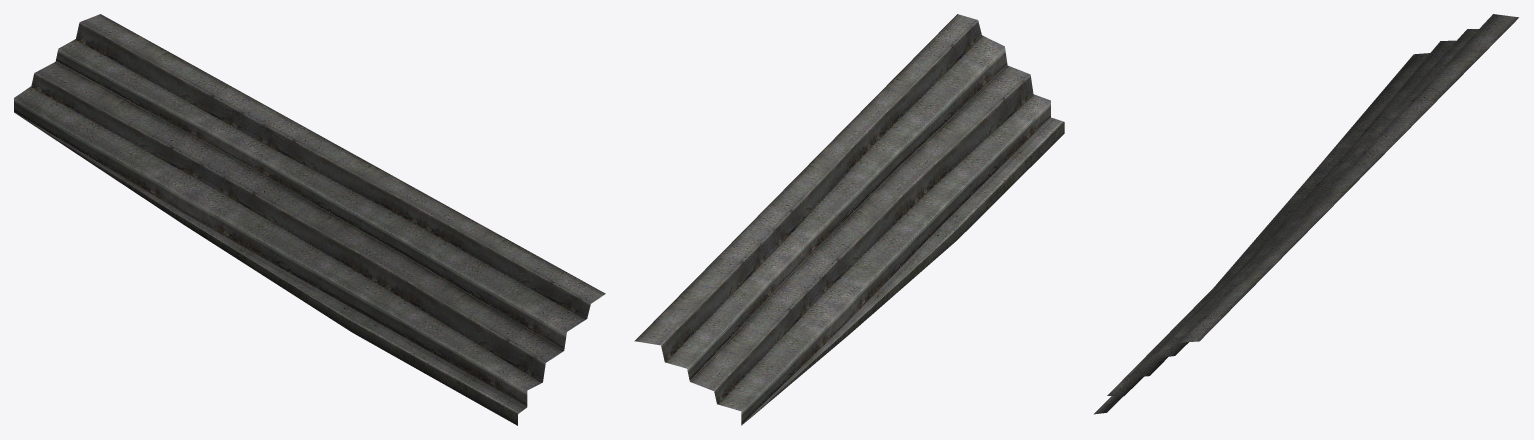
The model's file is building.glb.
The picture shows the model from 3 angles, left to right: view 1: azimuth 30°, elevation 25°; view 2: azimuth 150°, elevation 25°; view 3: azimuth 330°, elevation 25°; orthographic projection.
Visible parts, largest first — view 1: STR_TC_53_CHOP_T23_R0; view 2: STR_TC_53_CHOP_T23_R0; view 3: STR_TC_53_CHOP_T23_R0.
Part boxes in pixels (x1,y1,x2,y2): STR_TC_53_CHOP_T23_R0: [14, 14, 605, 425]; STR_TC_53_CHOP_T23_R0: [634, 14, 1064, 425]; STR_TC_53_CHOP_T23_R0: [1094, 14, 1518, 414].
Bounding box in the file's own units: 7.89 × 4.06 × 30.57.
Materials: 1 (1 with a texture image).
